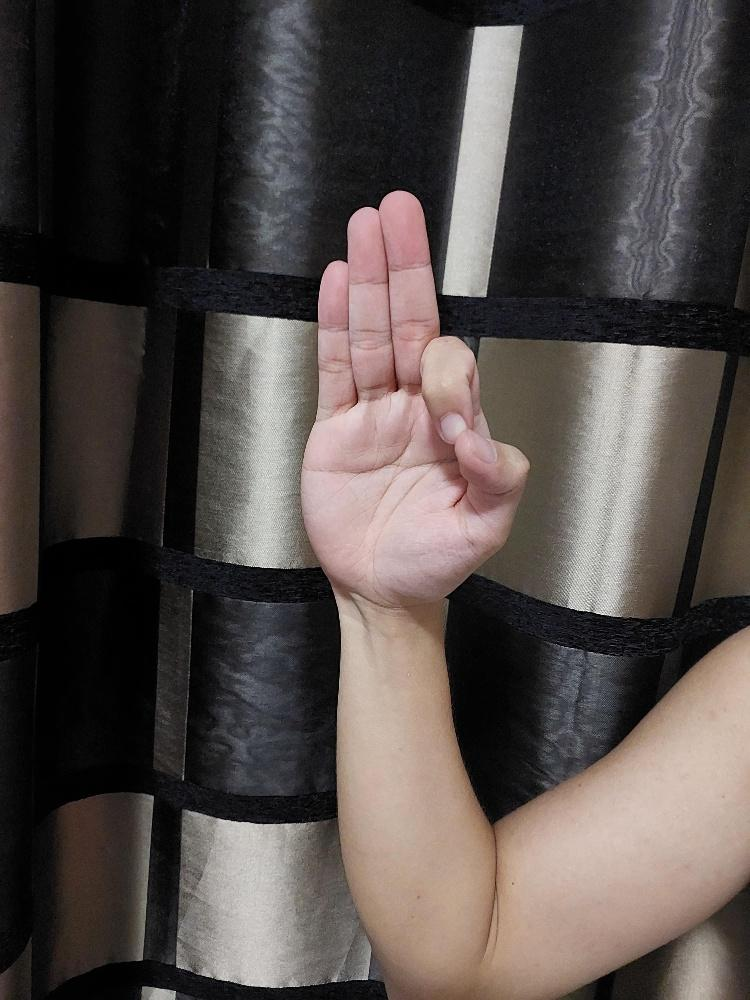f: (297, 188, 532, 613)
